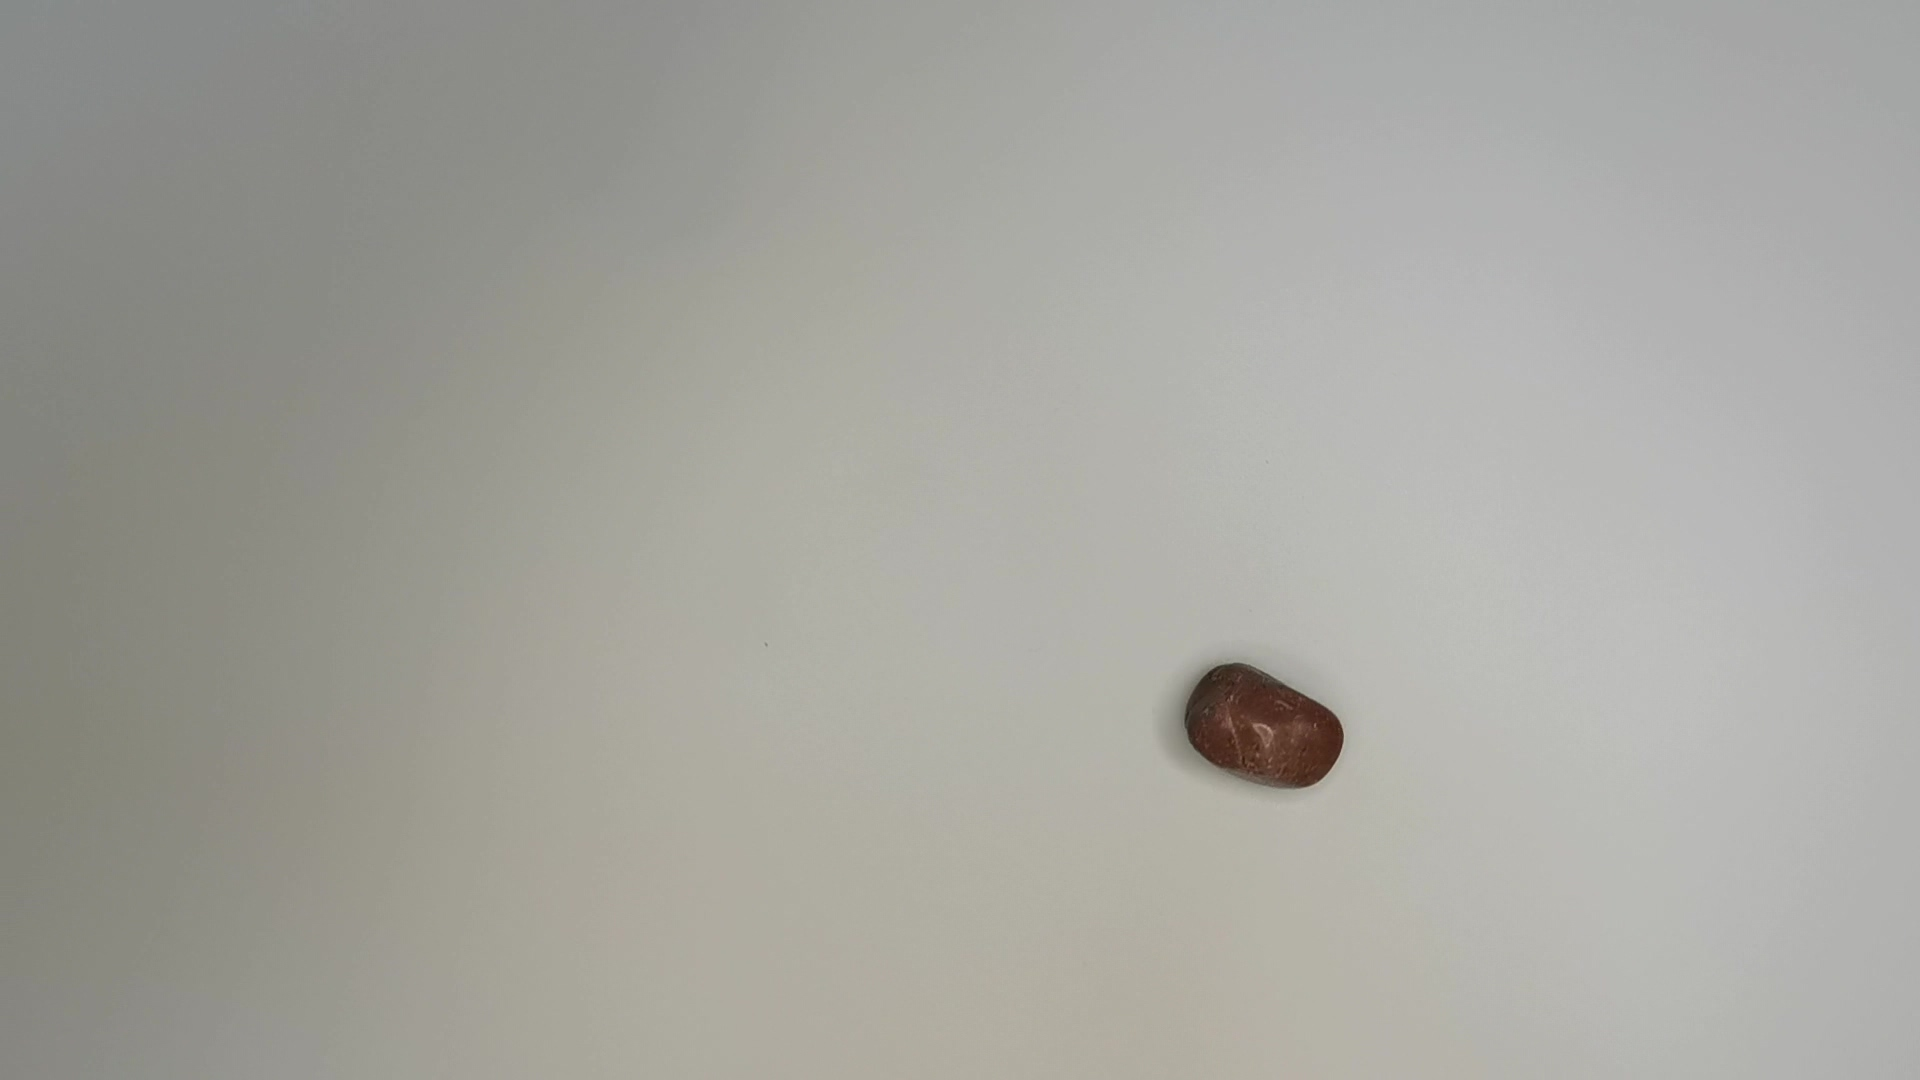ceramic: (1170, 657, 1348, 796)
